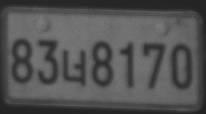0: (170, 43, 195, 88)
1: (116, 40, 139, 88)
3: (37, 39, 58, 85)
7: (142, 42, 167, 89)
8: (90, 41, 114, 87), (11, 38, 33, 84)
너: (61, 48, 86, 87)
